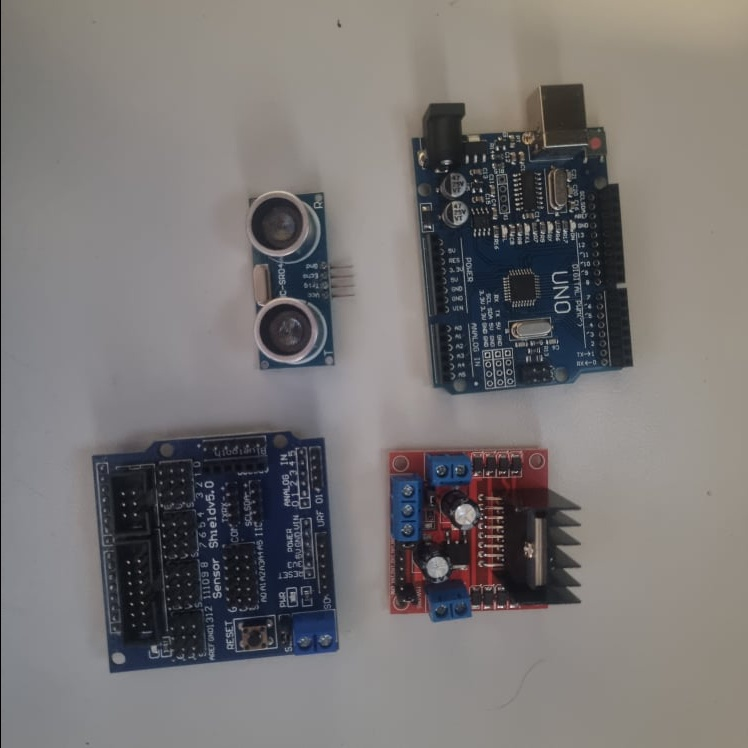5V EXPANSION: (89, 433, 338, 674)
MOTOR: (386, 448, 581, 625)
SENSOR: (248, 188, 338, 377)
UNO R3: (411, 82, 632, 395)
